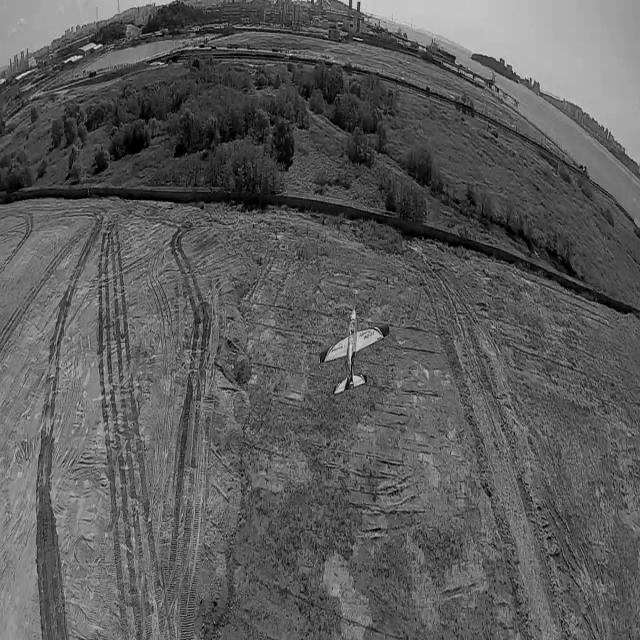iha: (350, 336, 353, 372)
